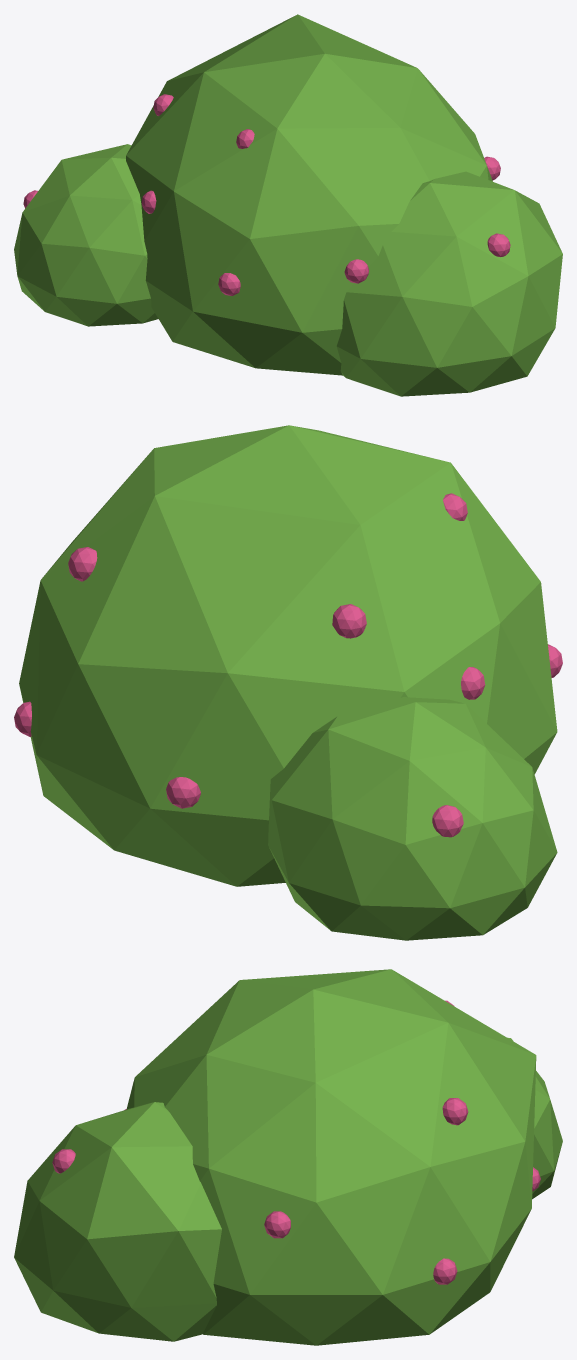
The model's file is bush_01.fbx.
The picture shows the model from 3 angles, top to bottom: view 1: azimuth 30°, elevation 25°; view 2: azimuth 150°, elevation 25°; view 3: azimuth 270°, elevation 25°; orthographic projection. The views are drawn at different scales.
Visible parts, largest first — view 1: Icosphere.007, Icosphere.008, Icosphere.009, Icosphere.010; view 2: Icosphere.007, Icosphere.009, Icosphere.012, Icosphere.017, Icosphere.020, Icosphere.015, Icosphere.013; view 3: Icosphere.007, Icosphere.008, Icosphere.009, Icosphere.016, Icosphere.015, Icosphere.018.
Boxes of the visible parts, x1,y1,x2,y2 form: Icosphere.007: (126, 14, 492, 375); Icosphere.008: (336, 171, 562, 396); Icosphere.009: (14, 144, 158, 326); Icosphere.010: (344, 259, 368, 283); Icosphere.007: (19, 425, 557, 886); Icosphere.009: (268, 697, 557, 940); Icosphere.012: (332, 604, 366, 638); Icosphere.017: (166, 777, 200, 808); Icosphere.020: (432, 805, 463, 837); Icosphere.015: (68, 547, 97, 581); Icosphere.013: (461, 667, 485, 699); Icosphere.007: (126, 969, 536, 1345); Icosphere.008: (14, 1102, 221, 1341); Icosphere.009: (507, 1037, 562, 1199); Icosphere.016: (264, 1211, 290, 1238); Icosphere.015: (442, 1098, 468, 1125); Icosphere.018: (433, 1258, 457, 1284).
Bounding box in the file's own units: 354 × 215 × 383.
